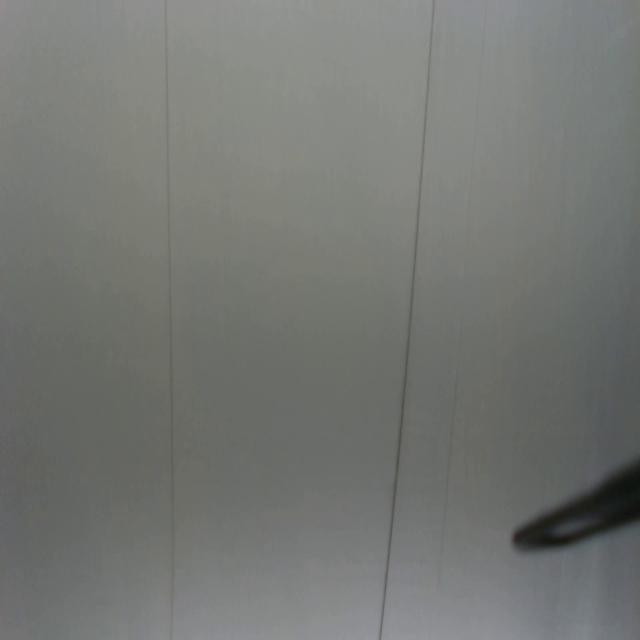crease: (378, 0, 436, 638), (437, 0, 490, 640), (164, 0, 178, 640)
